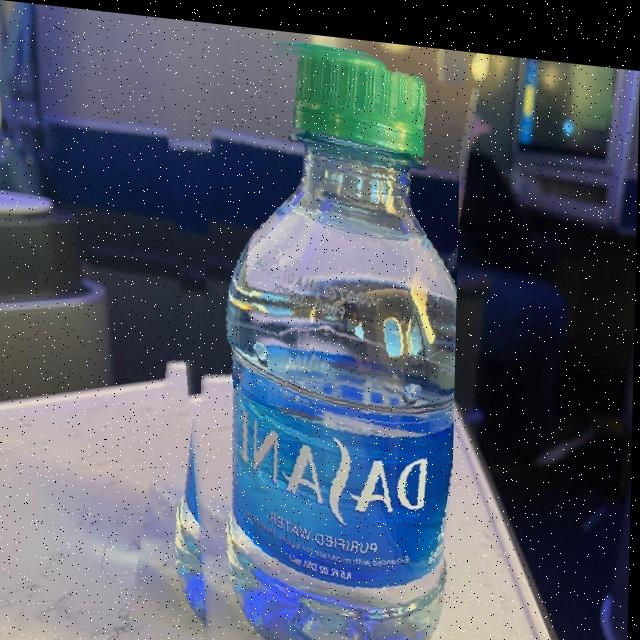litter: (149, 24, 462, 640), (223, 30, 419, 168)
